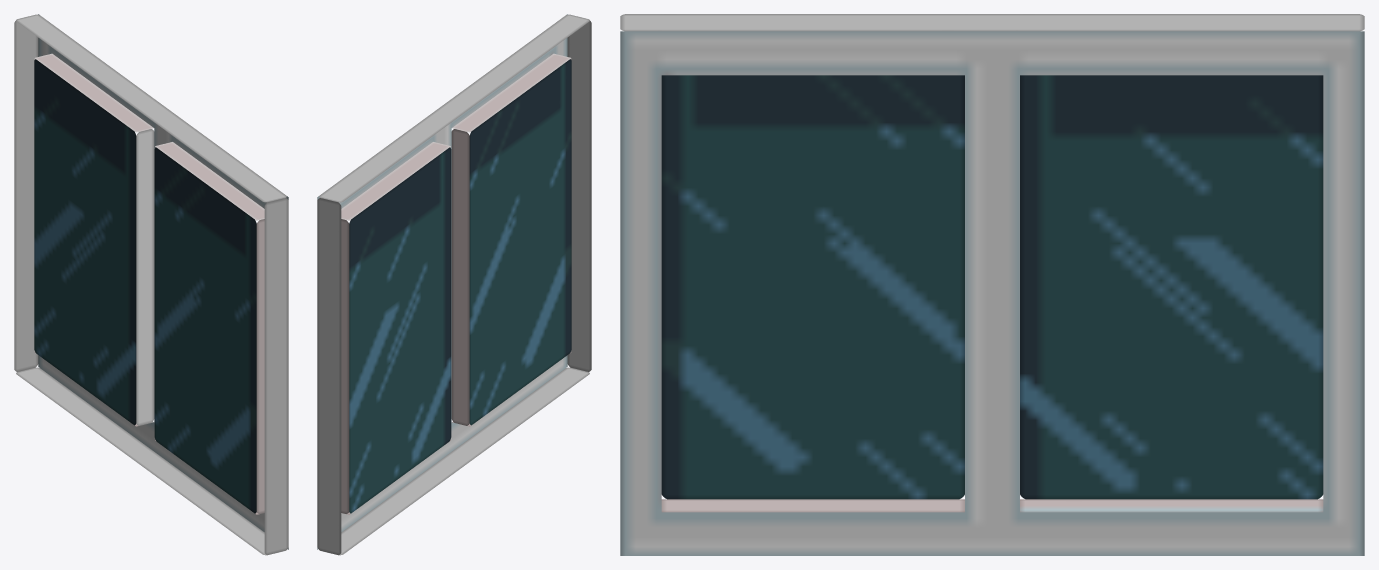
Rendered from WindowWhite2small.fbx.
3 renders of one model, left to right at view 1: azimuth 30°, elevation 25°; view 2: azimuth 150°, elevation 25°; view 3: azimuth 270°, elevation 25°, orthographic. The views are drawn at different scales.
Parts seen in each view (by area): view 1: plane; view 2: plane; view 3: plane.
Part boxes in pixels (x1,y1,x2,y2): plane: [14, 14, 288, 555]; plane: [317, 14, 591, 555]; plane: [620, 14, 1364, 555].
Bounding box in the file's own units: 6.25 × 87.5 × 112.
1 material, 1 textured.
